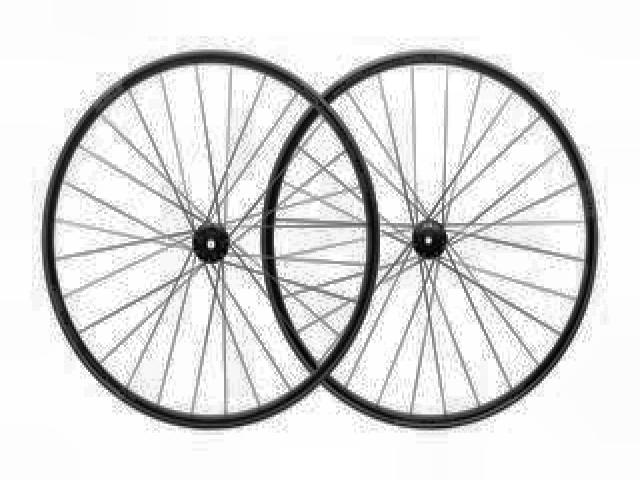wheel: (260, 44, 603, 435), (41, 45, 382, 435)
